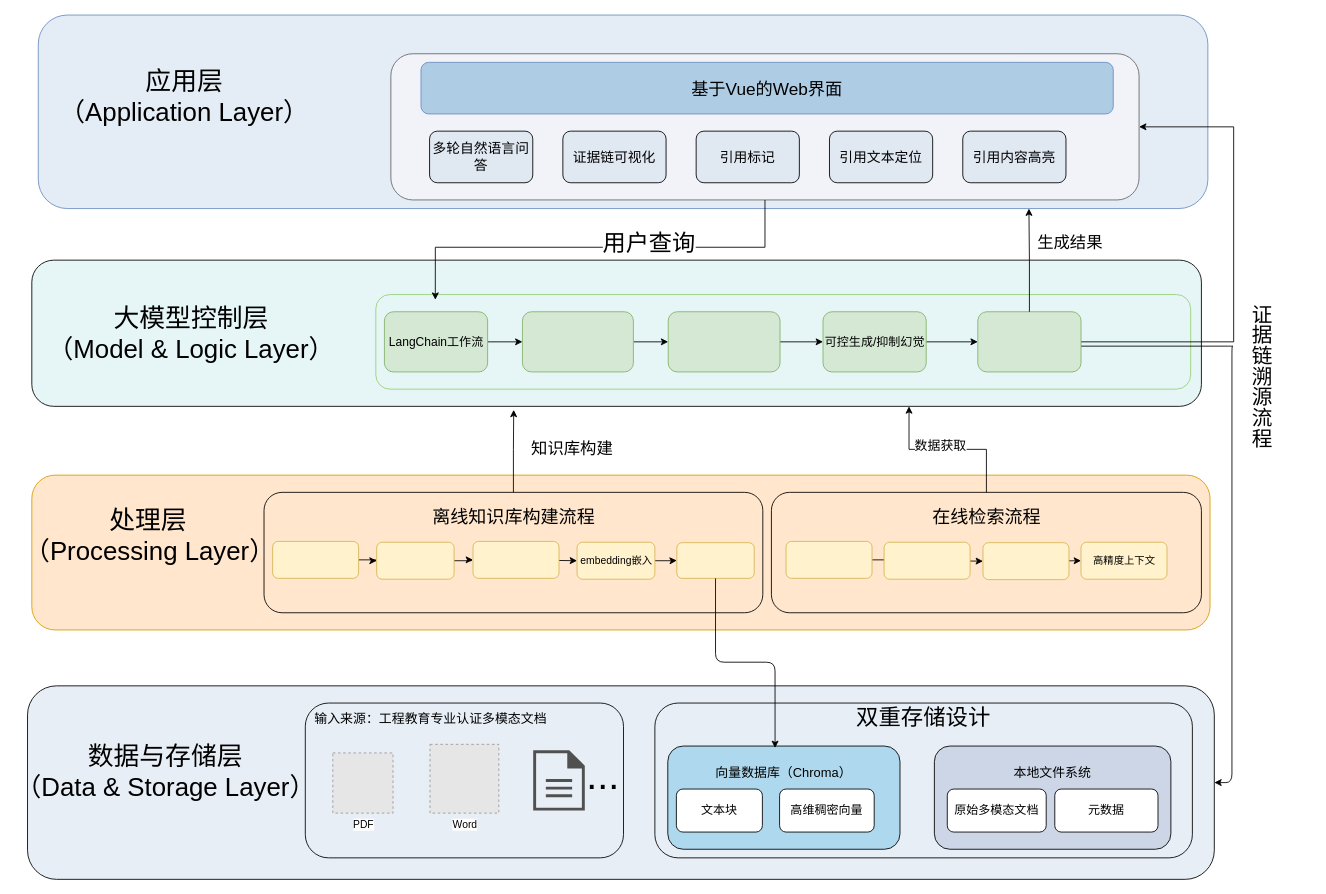
The diagram is 1326 pixels wide and 894 high, and some of its shapes have lost their labels. Grey dashed boxes stand in for pictures. The shapes that lost their labels are listed below. From the top down, each one's centre as x and y in pixels, then its label:
At (577,341): "提示词工程".
At (723,341): "查询+检索证据组装".
At (1029,341): "大模型 API".
At (315,559): "多模态文档".
At (415,560): "结构化提取".
At (515,559): "语义分割".
At (715,560): "存储".
At (828,559): "用户询问".
At (926,560): "稠密向量检索".
At (1025,561): "重排 （bge-reranker-v2-m3 ）".
At (558,780): "Excel、txt等".
